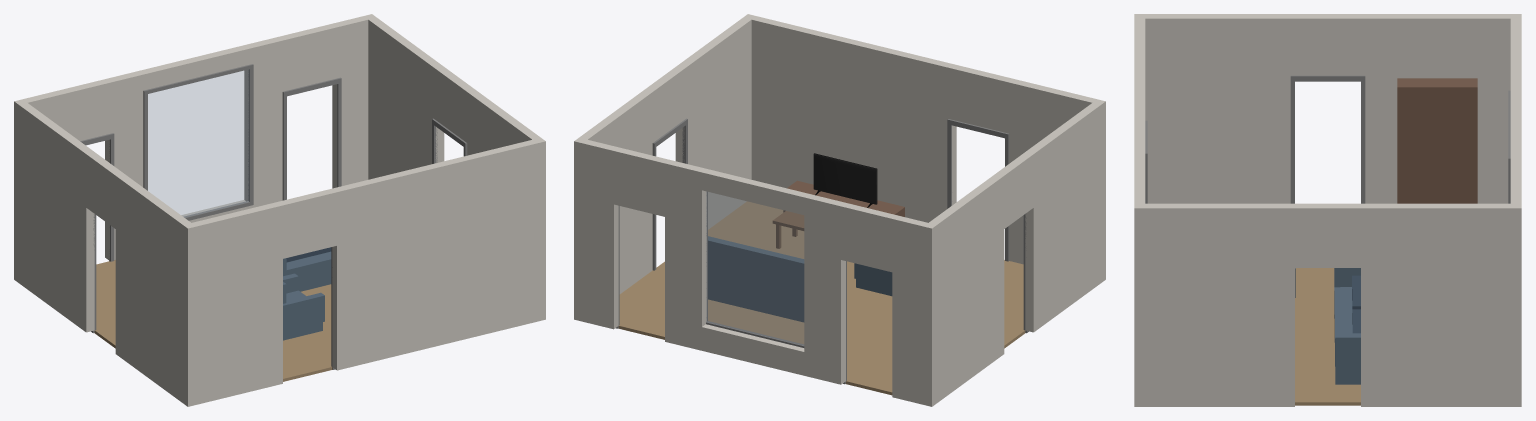
Rendered from living.glb.
The picture shows the model from 3 angles, left to right: view 1: azimuth 30°, elevation 25°; view 2: azimuth 150°, elevation 25°; view 3: azimuth 270°, elevation 25°; orthographic projection. The views are drawn at different scales.
Visible parts, largest first — view 1: wf_r, wf_l, wsd_fw.001, wsd_bk.001, glass, wsd_bk, bw_s.002, bw_end, wsd_fw, floor, bw_s.001, wf_t (+14 smaller); view 2: wf_r, wsd_bk.001, wsd_fw.001, floor, glass, wsd_fw, bw_s.002, bw_s.001, wsd_bk, bw_end, bw_s, wf_l (+12 smaller); view 3: wsd_bk, wsd_fw, wsd_fw.001, wsd_bk.001, body, floor, wsd_tp, wsd_tp.001, base, wf_r, bw_wt, frame_bk.001 (+6 smaller).
Boxes of the visible parts, x1,y1,x2,y2 form: wf_r: (332, 139, 537, 370); wf_l: (192, 202, 282, 404); wsd_fw.001: (115, 174, 196, 406); wsd_bk.001: (14, 99, 94, 332); glass: (148, 69, 249, 217); wsd_bk: (364, 14, 444, 179); bw_s.002: (244, 36, 285, 208); bw_end: (332, 16, 368, 188); wsd_fw: (465, 88, 545, 321); floor: (94, 260, 332, 381); bw_s.001: (105, 70, 146, 260); wf_t: (278, 188, 336, 258); wf_r: (751, 16, 956, 222); wsd_bk.001: (923, 174, 1004, 406); wsd_fw.001: (1025, 99, 1105, 332); floor: (618, 201, 1025, 395); glass: (706, 191, 803, 345); wsd_fw: (675, 14, 755, 229); bw_s.002: (665, 160, 706, 350); bw_s.001: (804, 194, 845, 384); wsd_bk: (574, 88, 654, 321); bw_end: (582, 139, 618, 329); bw_s: (892, 215, 927, 404); wf_l: (1005, 78, 1096, 264); wsd_bk: (1361, 203, 1521, 406); wsd_fw: (1134, 203, 1294, 406); wsd_fw.001: (1134, 14, 1294, 203); wsd_bk.001: (1361, 14, 1521, 203); body: (1397, 78, 1477, 203); floor: (1295, 268, 1360, 405); wsd_tp: (1295, 203, 1360, 267); wsd_tp.001: (1295, 14, 1360, 75); base: (1334, 287, 1360, 384); wf_r: (1134, 95, 1145, 203); bw_wt: (1510, 83, 1521, 138); frame_bk.001: (1361, 75, 1365, 203).
Bounding box in the file's own units: 6.3 × 3.05 × 5.3.
